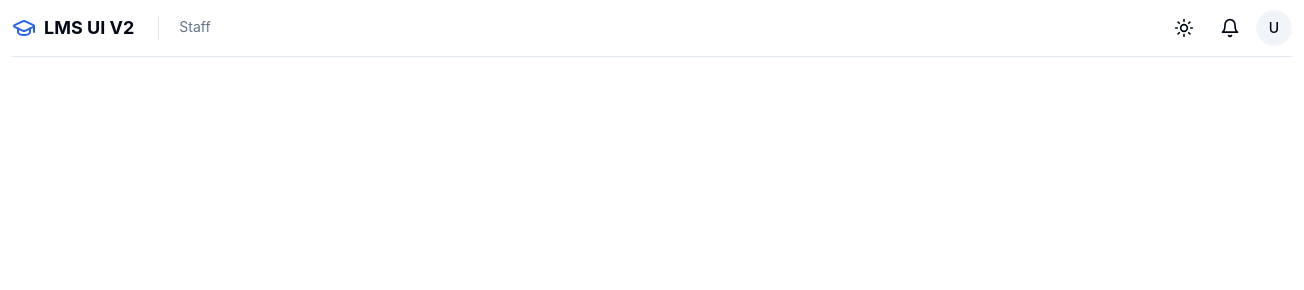
Test: Header Component › Edge Cases › should handle missing user data gracefully
This screenshot has width=1304, height=290.
Open dropdown
Click the button named "user menu" at (1274, 28), box x1=1256 y1=10 x2=1292 y2=46
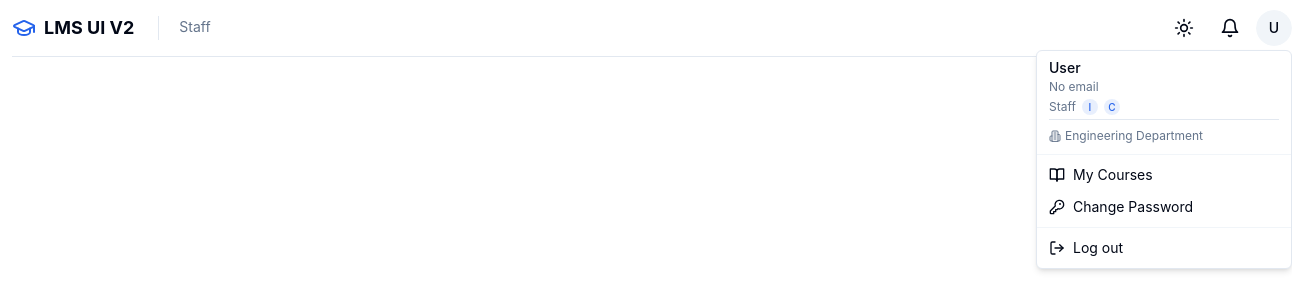
Now the text "User" is shown, box x1=1049 y1=59 x2=1080 y2=76
